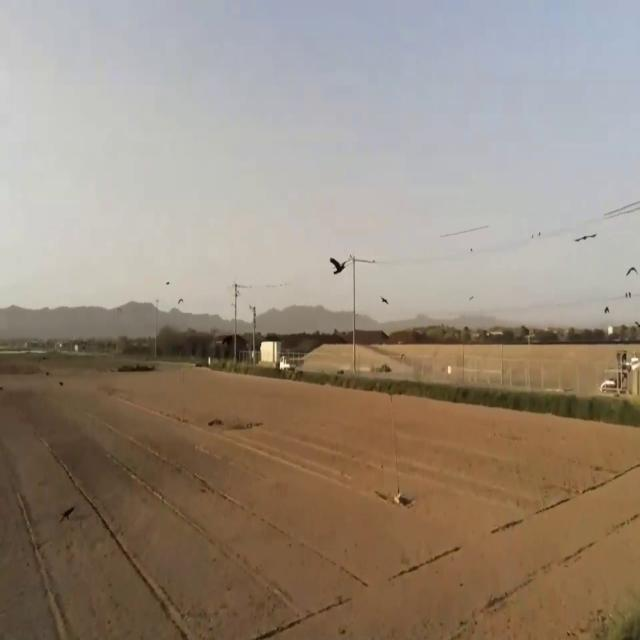bird: (328, 244, 349, 286), (573, 224, 597, 252), (61, 498, 75, 529), (626, 257, 638, 285), (380, 288, 389, 312)
